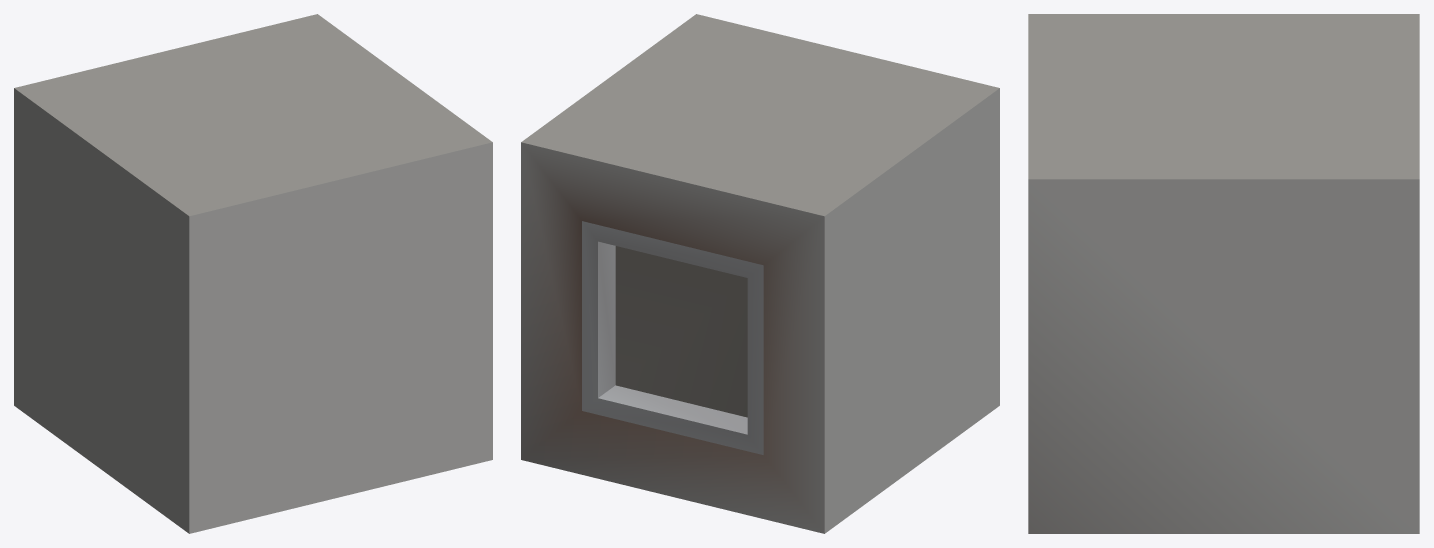
File: wall-a-window.glb
3 renders of one model, left to right at view 1: azimuth 30°, elevation 25°; view 2: azimuth 150°, elevation 25°; view 3: azimuth 270°, elevation 25°, orthographic. The views are drawn at different scales.
Parts seen in each view (by area): view 1: wall-a-window; view 2: wall-a-window; view 3: wall-a-window.
Part boxes in pixels (x1=…): wall-a-window: x1=14, y1=14, x2=492, y2=533; wall-a-window: x1=521, y1=14, x2=999, y2=533; wall-a-window: x1=1028, y1=14, x2=1419, y2=533.
Bounding box in the file's own units: 1 × 1 × 1.
